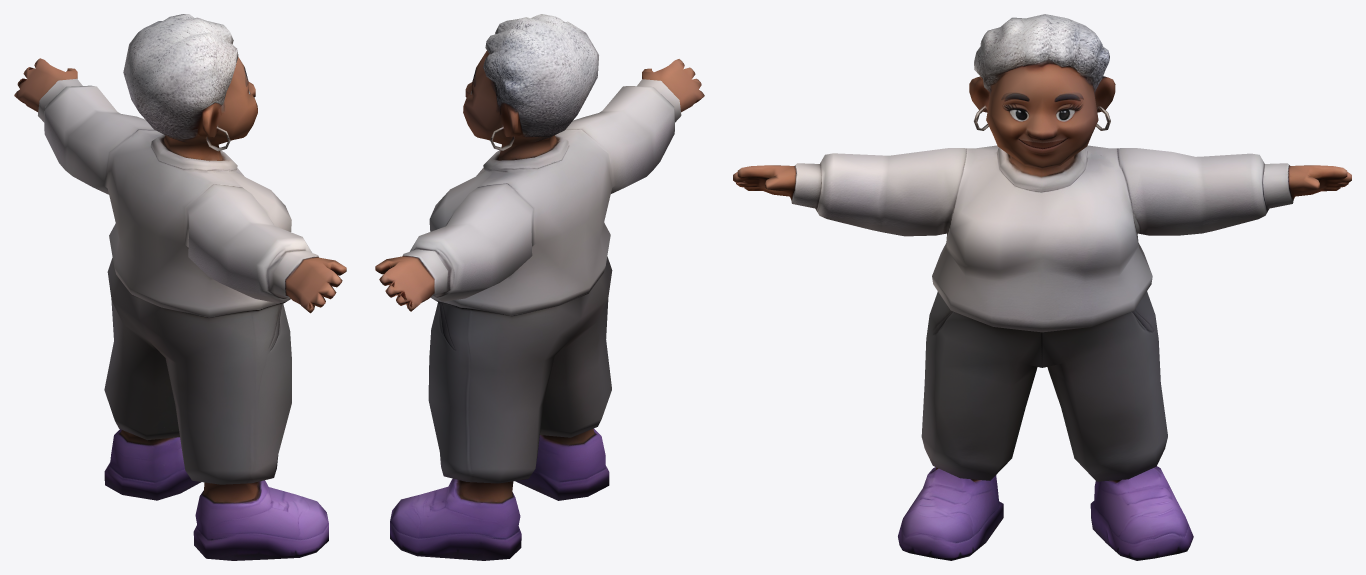
3 renders of one model, left to right at view 1: azimuth 30°, elevation 25°; view 2: azimuth 150°, elevation 25°; view 3: azimuth 270°, elevation 25°, orthographic. The views are drawn at different scales.
Parts seen in each view (by area): view 1: tripo_node_4abb4124-05c9-40da-9932-4a22d114aec4; view 2: tripo_node_4abb4124-05c9-40da-9932-4a22d114aec4; view 3: tripo_node_4abb4124-05c9-40da-9932-4a22d114aec4.
Boxes of the visible parts, box(x1,y1,x2,y2) form: tripo_node_4abb4124-05c9-40da-9932-4a22d114aec4: box(14, 14, 346, 560); tripo_node_4abb4124-05c9-40da-9932-4a22d114aec4: box(375, 14, 704, 560); tripo_node_4abb4124-05c9-40da-9932-4a22d114aec4: box(733, 14, 1351, 560).
Size of the model in its own units: 0.272 by 0.8931 by 0.9995.
Materials: 1 (1 with a texture image).
